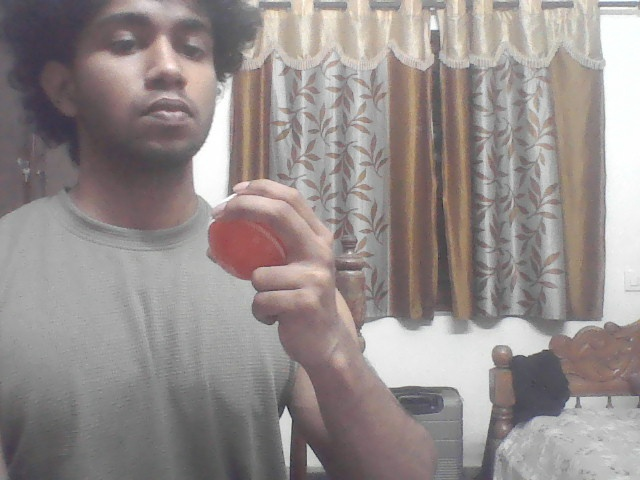cricket_ball: (206, 203, 295, 280)
